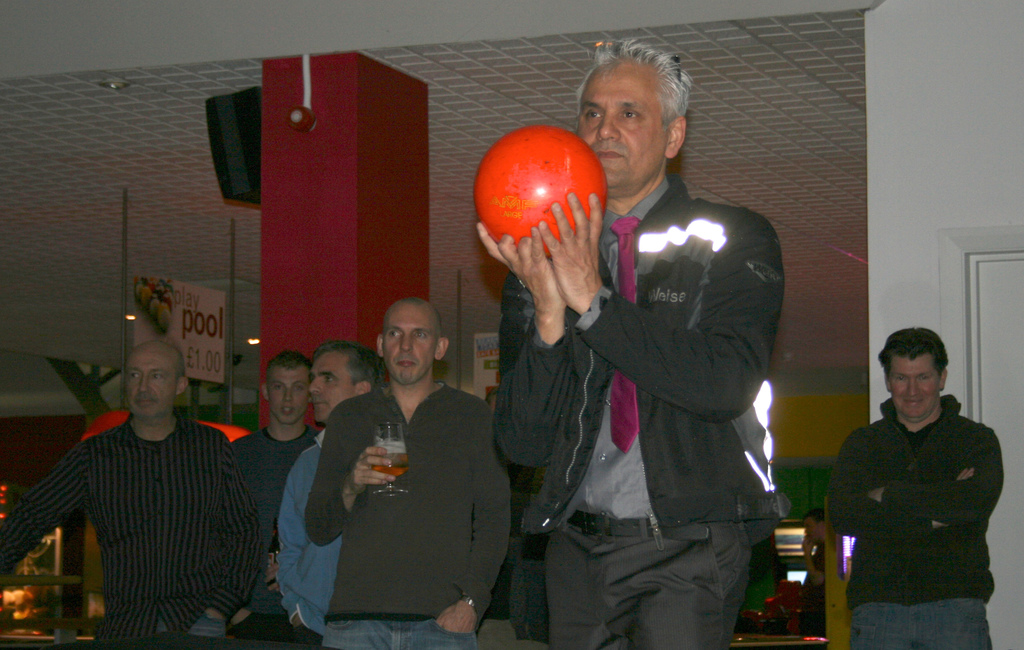Ball: (483, 127, 606, 259)
